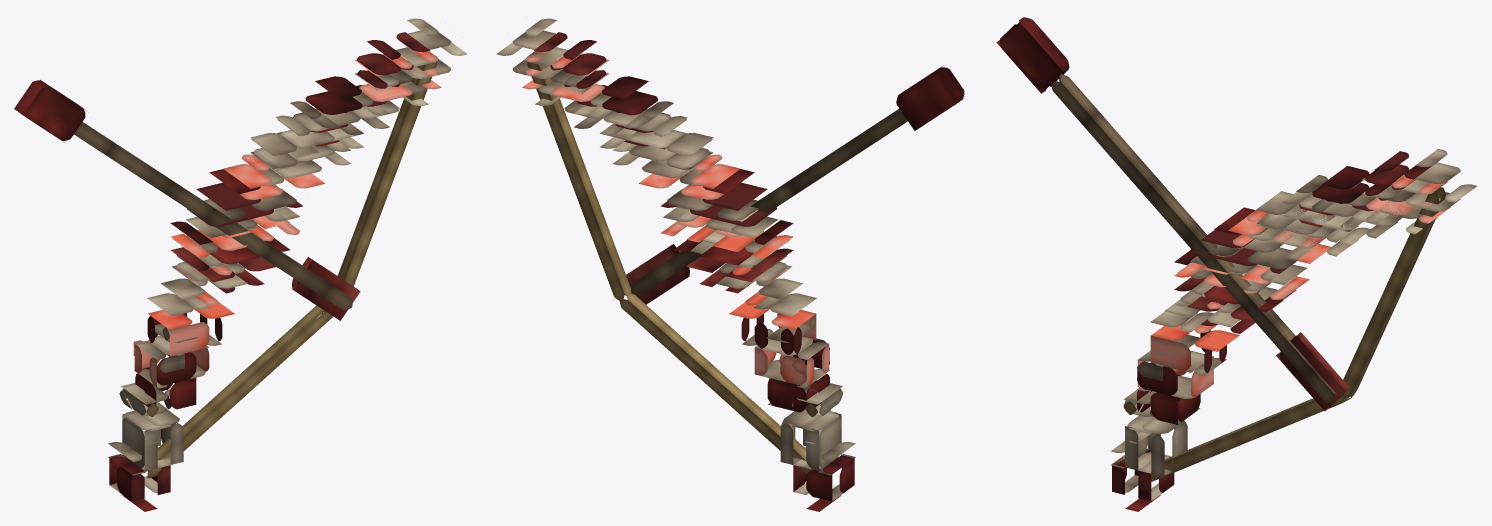
The model's file is sinew_bow_pulling_1.obj.
3 renders of one model, left to right at view 1: azimuth 30°, elevation 25°; view 2: azimuth 150°, elevation 25°; view 3: azimuth 330°, elevation 25°, orthographic. The views are drawn at different scales.
Visible parts, largest first — view 1: lit, fire; view 2: lit, fire; view 3: lit, fire.
Boxes of the visible parts, <box> form: lit: <box>14,18,467,511</box>; fire: <box>291,257,360,320</box>; lit: <box>496,18,964,511</box>; fire: <box>626,244,690,304</box>; lit: <box>996,17,1476,511</box>; fire: <box>1276,332,1349,410</box>.
Size of the model in its own units: 1.08 by 1.05 by 0.125.
